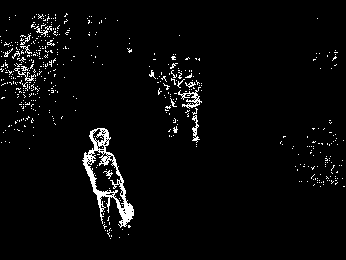person: (87, 129, 135, 238)
